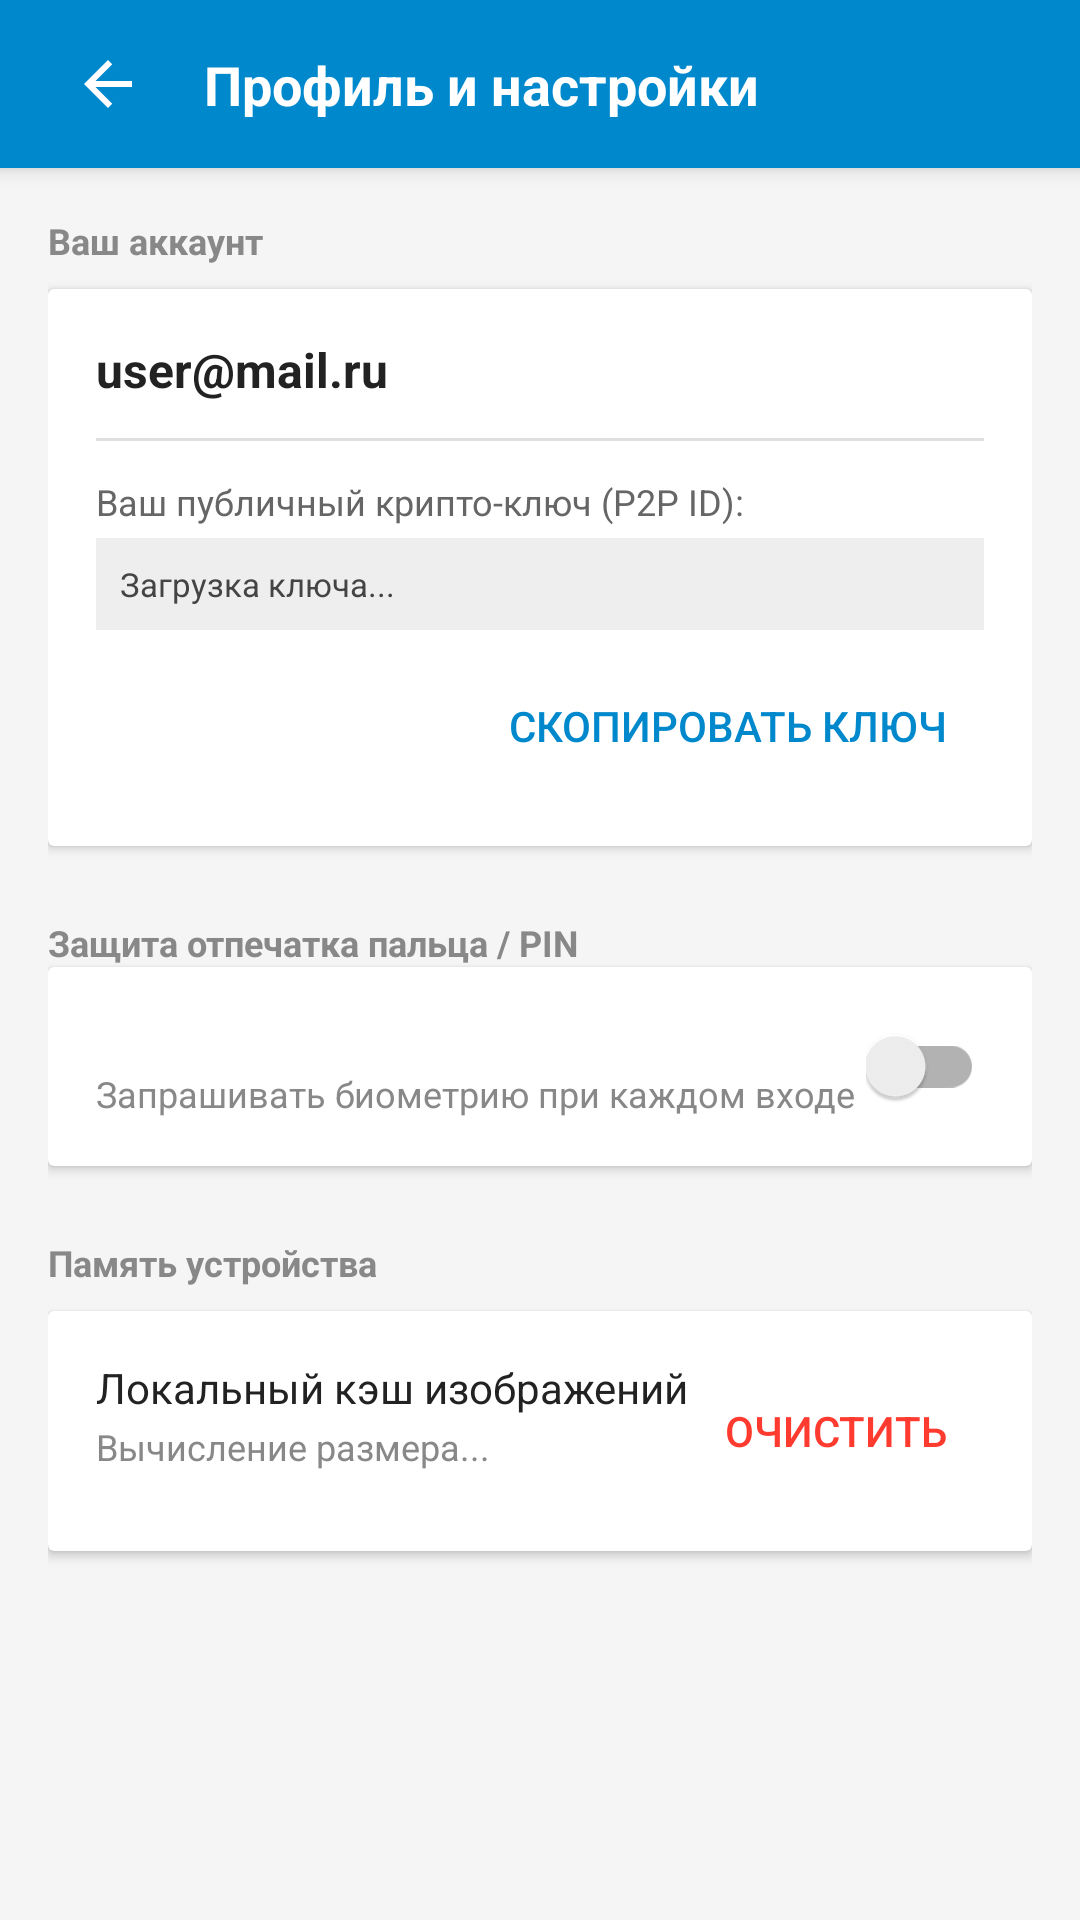

Icon click points for this 1080x1920 phone screenshot, format [x,y]:
Назад: [108,84]
